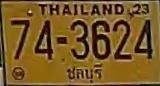2: (112, 19, 130, 58)
3: (70, 20, 88, 58)
4: (34, 19, 52, 59), (134, 19, 152, 58)
6: (91, 20, 110, 58)
7: (10, 19, 29, 59)
CBI: (66, 63, 104, 84)
